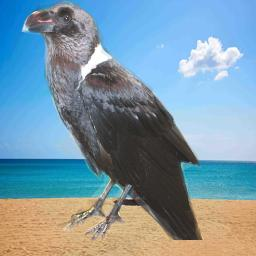Crow: (21, 0, 204, 240)
